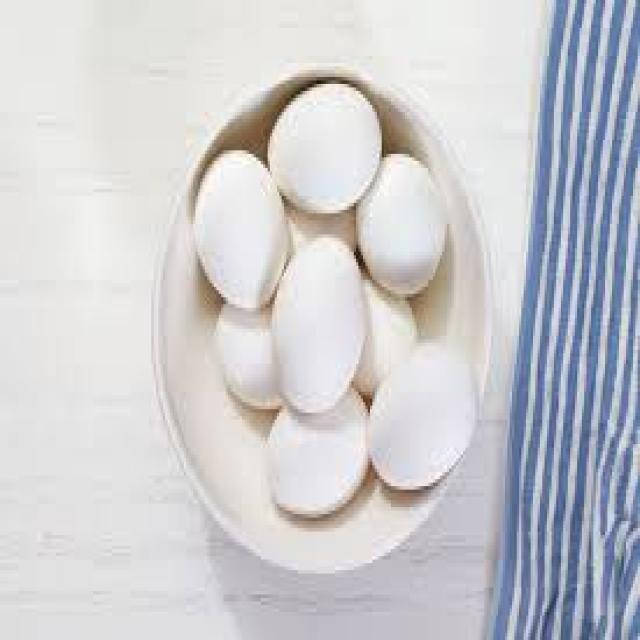White Egg: (186, 145, 296, 322), (344, 143, 459, 300), (275, 365, 376, 542), (369, 334, 480, 492), (262, 62, 394, 194), (271, 238, 370, 404)
